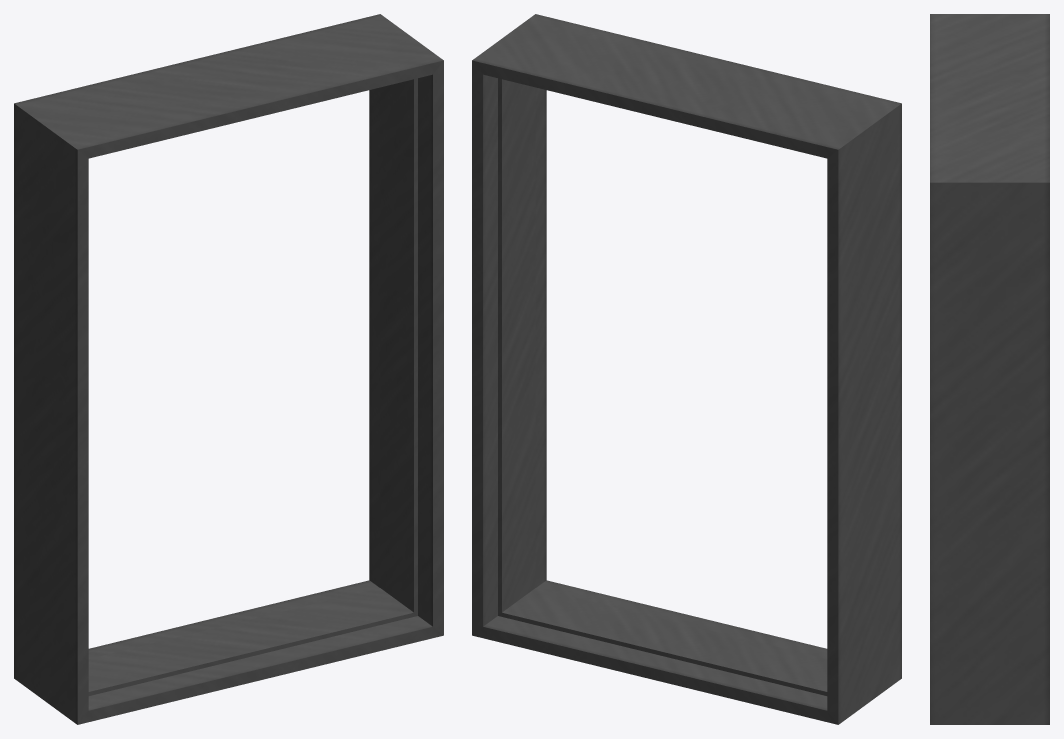
The model's file is WinFrame1x1_5Vert.gltf.
The picture shows the model from 3 angles, left to right: view 1: azimuth 30°, elevation 25°; view 2: azimuth 150°, elevation 25°; view 3: azimuth 270°, elevation 25°; orthographic projection. The views are drawn at different scales.
Parts seen in each view (by area): view 1: WinFrame1x1_5VertShape; view 2: WinFrame1x1_5VertShape; view 3: WinFrame1x1_5VertShape.
Part boxes in pixels (left/top/right/bottom): WinFrame1x1_5VertShape: left=14, top=14, right=443, bottom=724; WinFrame1x1_5VertShape: left=472, top=14, right=901, bottom=724; WinFrame1x1_5VertShape: left=930, top=14, right=1049, bottom=724.
Bounding box in the file's own units: 1 × 1.5 × 0.3.
Materials: 1 (1 with a texture image).
